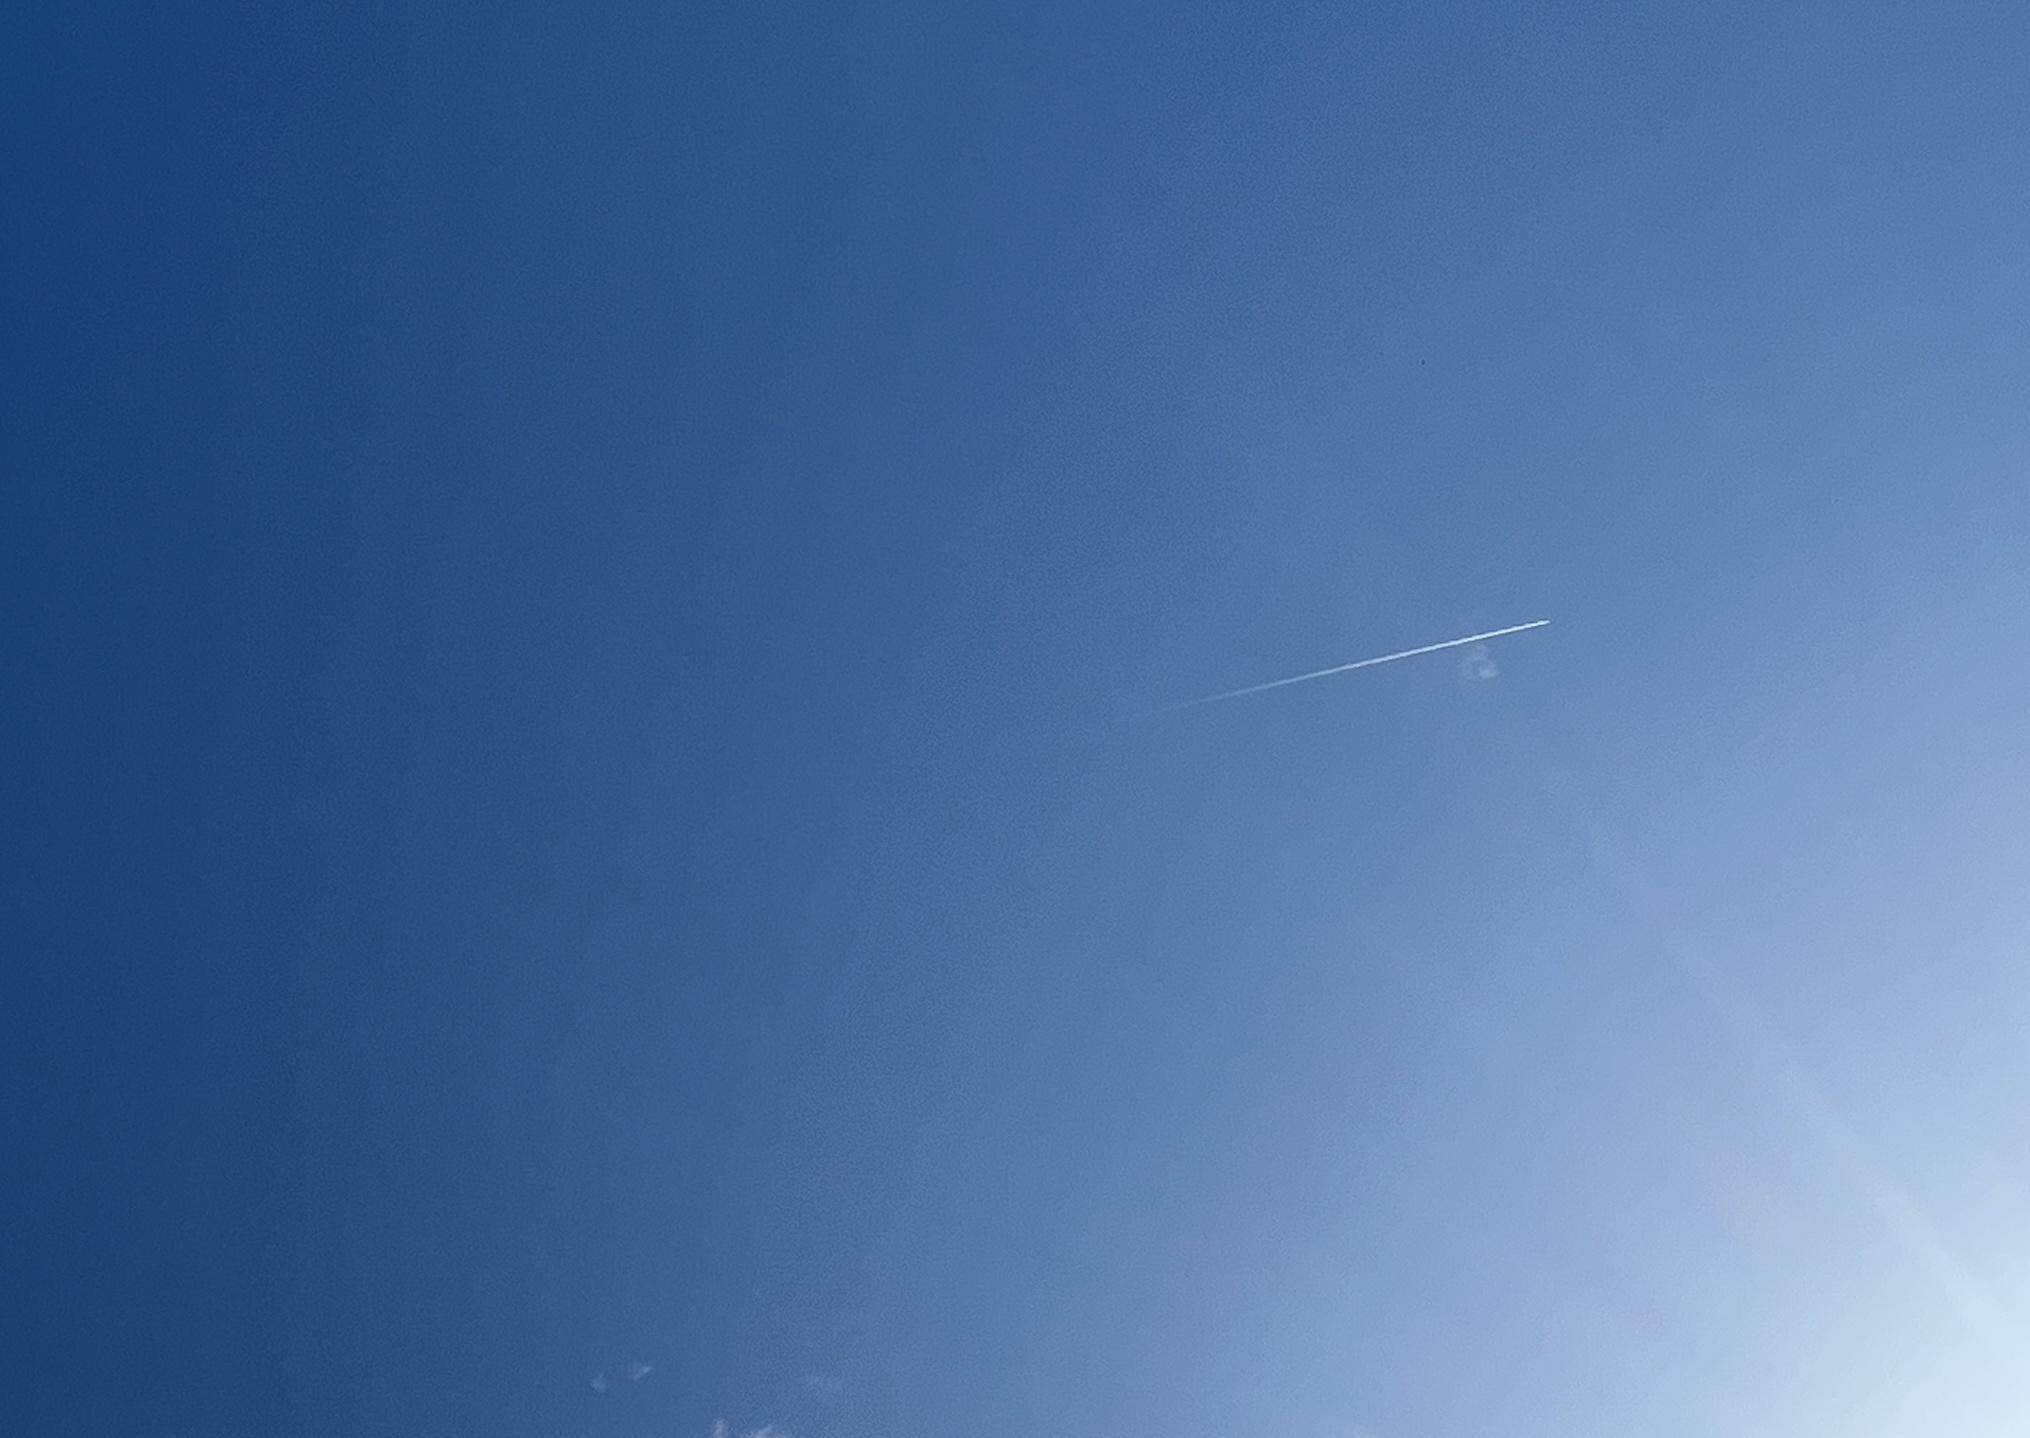Plane: (1117, 594, 1573, 724)
